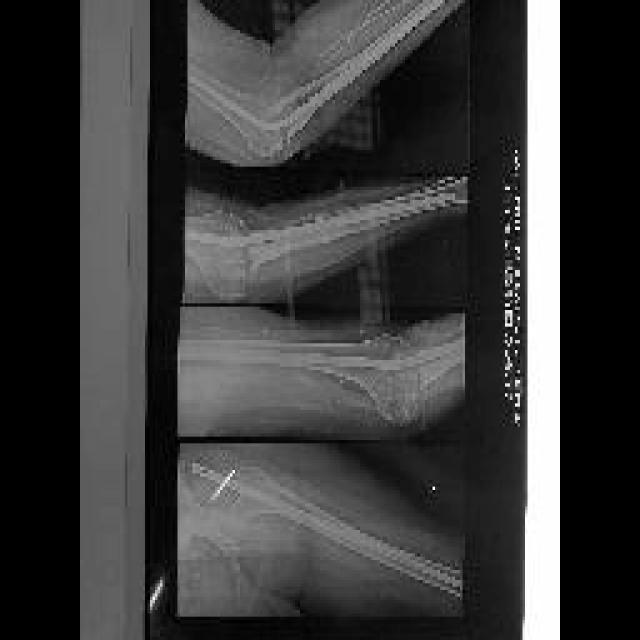bone-cancer: (190, 207, 262, 296), (360, 332, 424, 424)
